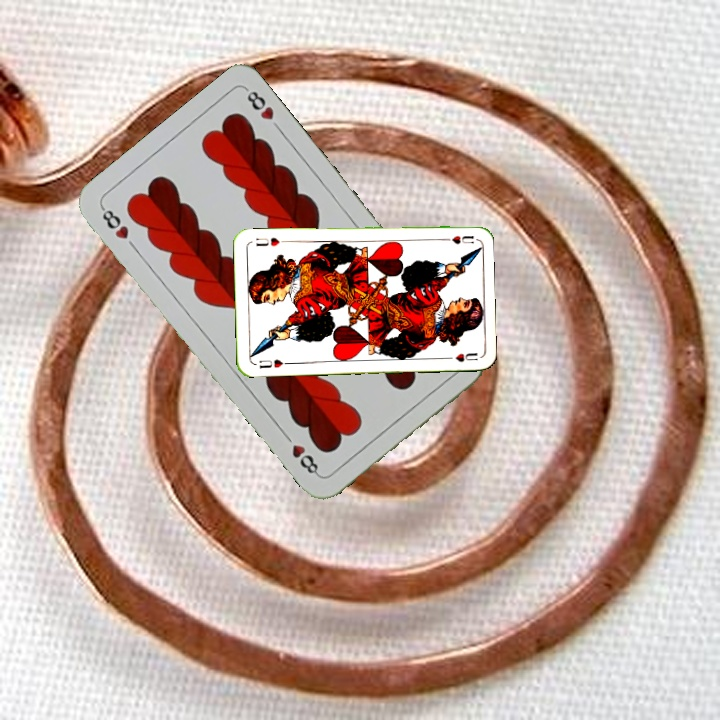H8: (97, 203, 132, 242)
HU: (436, 231, 476, 246), (255, 355, 285, 371)
